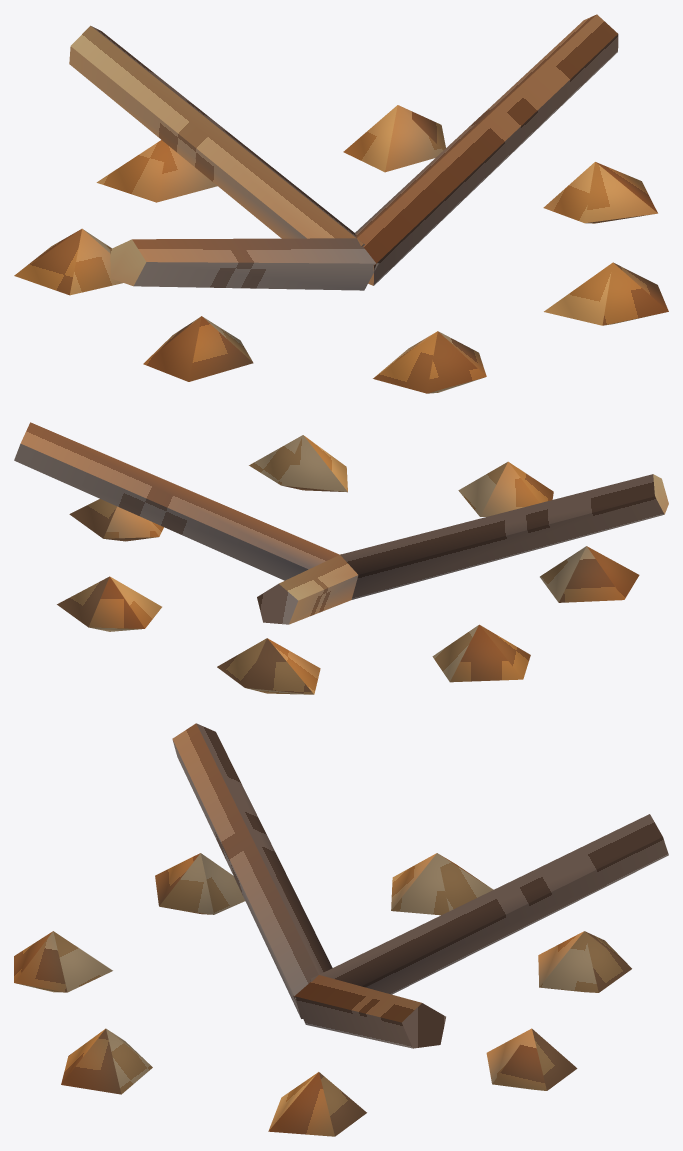
The model's file is wprop.campfire__cold.glb.
3 views of the same model, one above another, from view 1: azimuth 30°, elevation 25°; view 2: azimuth 150°, elevation 25°; view 3: azimuth 270°, elevation 25° (orthographic). The views are drawn at different scales.
Visible parts, largest first — view 1: kit_logs, kit_stones; view 2: kit_logs, kit_stones; view 3: kit_logs, kit_stones.
Boxes of the visible parts, x1=… form: kit_logs: x1=69, y1=14, x2=618, y2=290; kit_stones: x1=14, y1=105, x2=668, y2=393; kit_logs: x1=14, y1=422, x2=668, y2=624; kit_stones: x1=57, y1=435, x2=639, y2=694; kit_logs: x1=172, y1=723, x2=668, y2=1048; kit_stones: x1=14, y1=853, x2=631, y2=1136.
Size of the model in its own units: 1.28 by 0.3203 by 1.2.
Materials: 2 (2 with a texture image).
